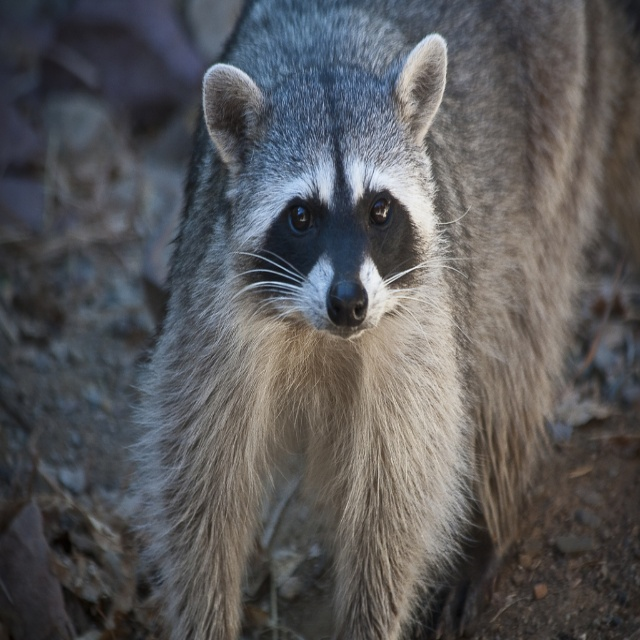Raccoon: (127, 0, 640, 640)
